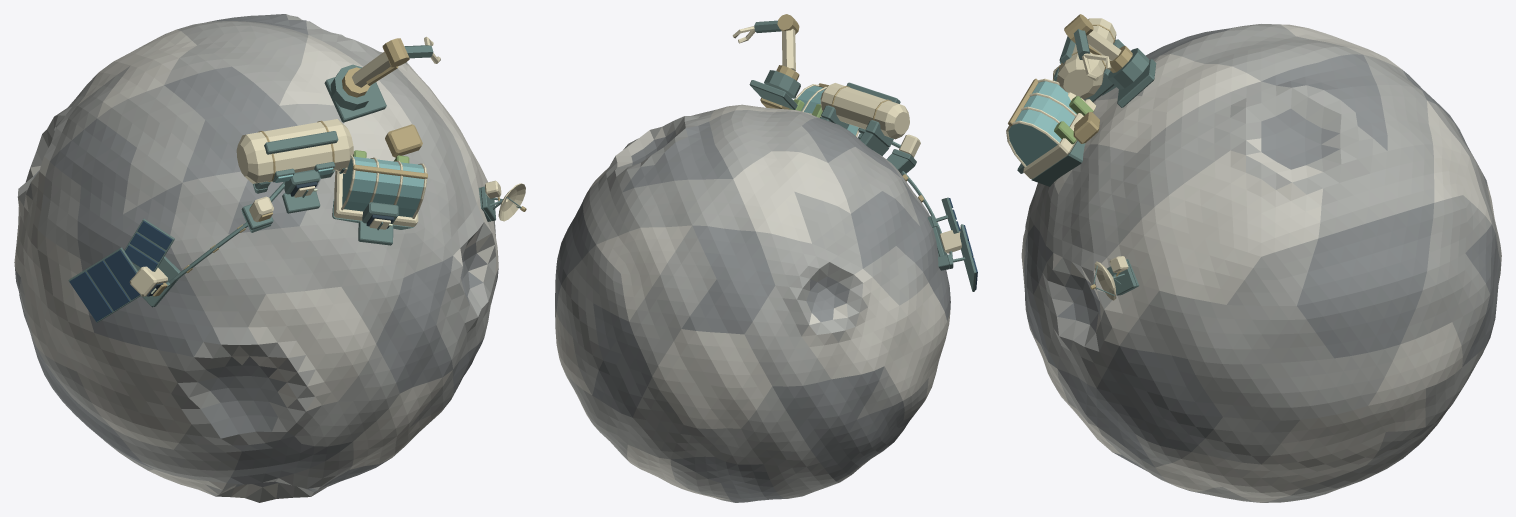
Rendered from Moon.glb.
3 views of the same model, side by side, from view 1: azimuth 30°, elevation 25°; view 2: azimuth 150°, elevation 25°; view 3: azimuth 270°, elevation 25° (orthographic). The views are drawn at different scales.
Parts seen in each view (by area): view 1: S10_Moon • modeled surfaces; view 2: S10_Moon • modeled surfaces; view 3: S10_Moon • modeled surfaces.
Part boxes in pixels (x1=…): S10_Moon • modeled surfaces: x1=14, y1=14, x2=526, y2=502; S10_Moon • modeled surfaces: x1=555, y1=14, x2=977, y2=502; S10_Moon • modeled surfaces: x1=1006, y1=14, x2=1501, y2=502.
Size of the model in its own units: 1.73 by 1.85 by 1.71.
